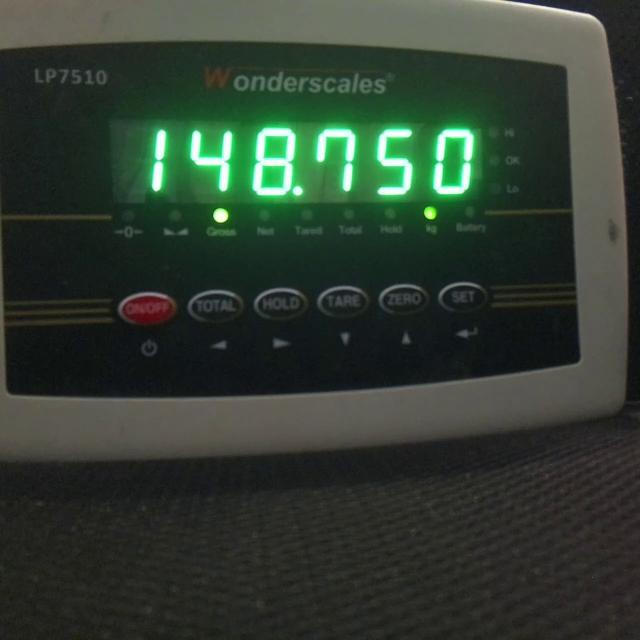.: (292, 185, 302, 196)
0: (433, 128, 473, 195)
1: (150, 128, 167, 192)
4: (189, 128, 231, 193)
5: (374, 127, 414, 195)
7: (315, 127, 356, 193)
8: (251, 124, 297, 198)
